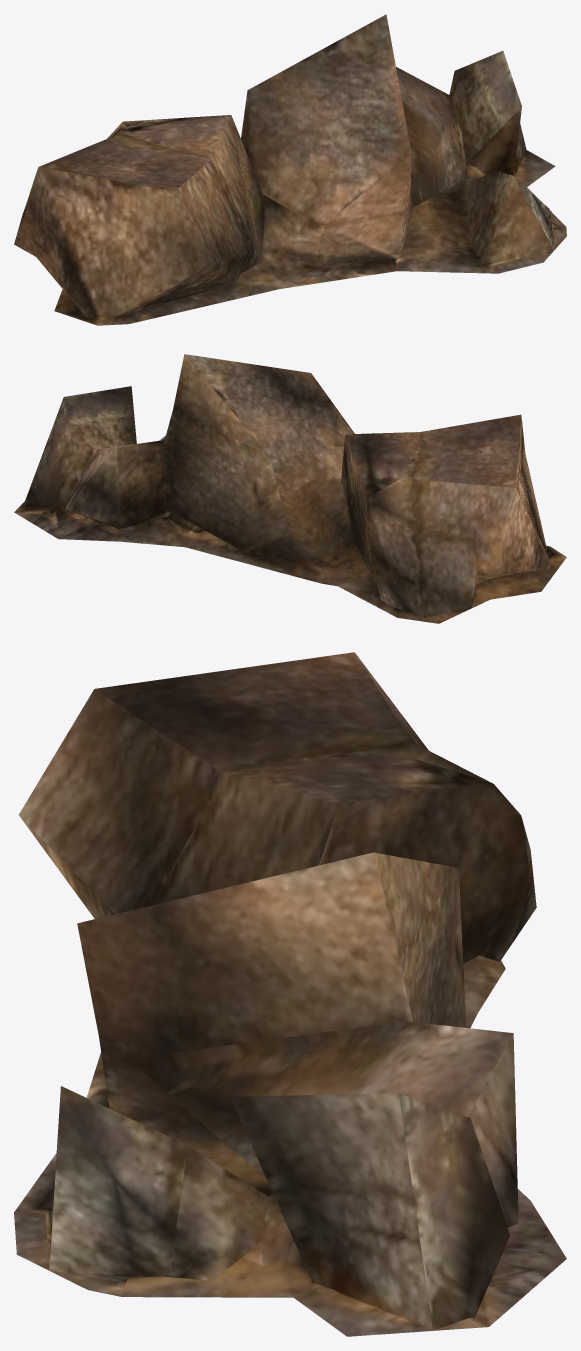
Rendered from boulder_a_far.glb.
The picture shows the model from 3 angles, top to bottom: view 1: azimuth 30°, elevation 25°; view 2: azimuth 150°, elevation 25°; view 3: azimuth 270°, elevation 25°; orthographic projection. The views are drawn at different scales.
Parts seen in each view (by area): view 1: boulder_02; view 2: boulder_02; view 3: boulder_02.
Boxes of the visible parts, box(x1,y1,x2,y2) form: boulder_02: box(14, 14, 566, 325); boulder_02: box(14, 354, 566, 623); boulder_02: box(14, 652, 566, 1336).
Size of the model in its own units: 2.4 by 0.8564 by 1.21.
1 material, 1 textured.
